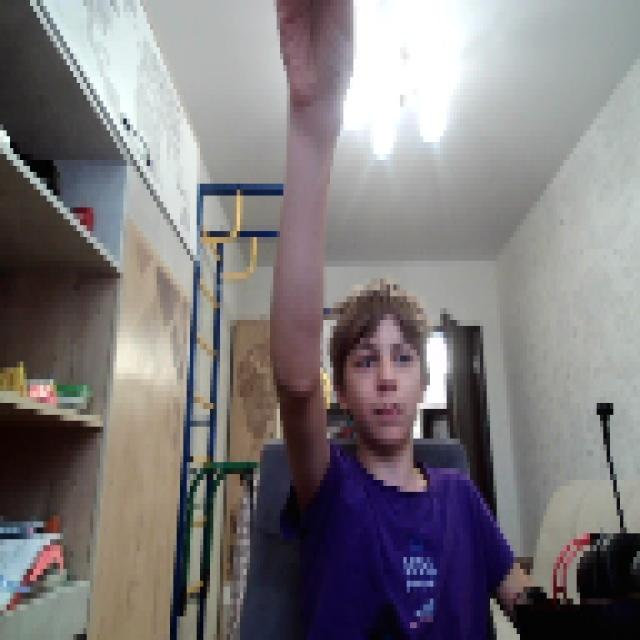left_click: (270, 0, 353, 95)
